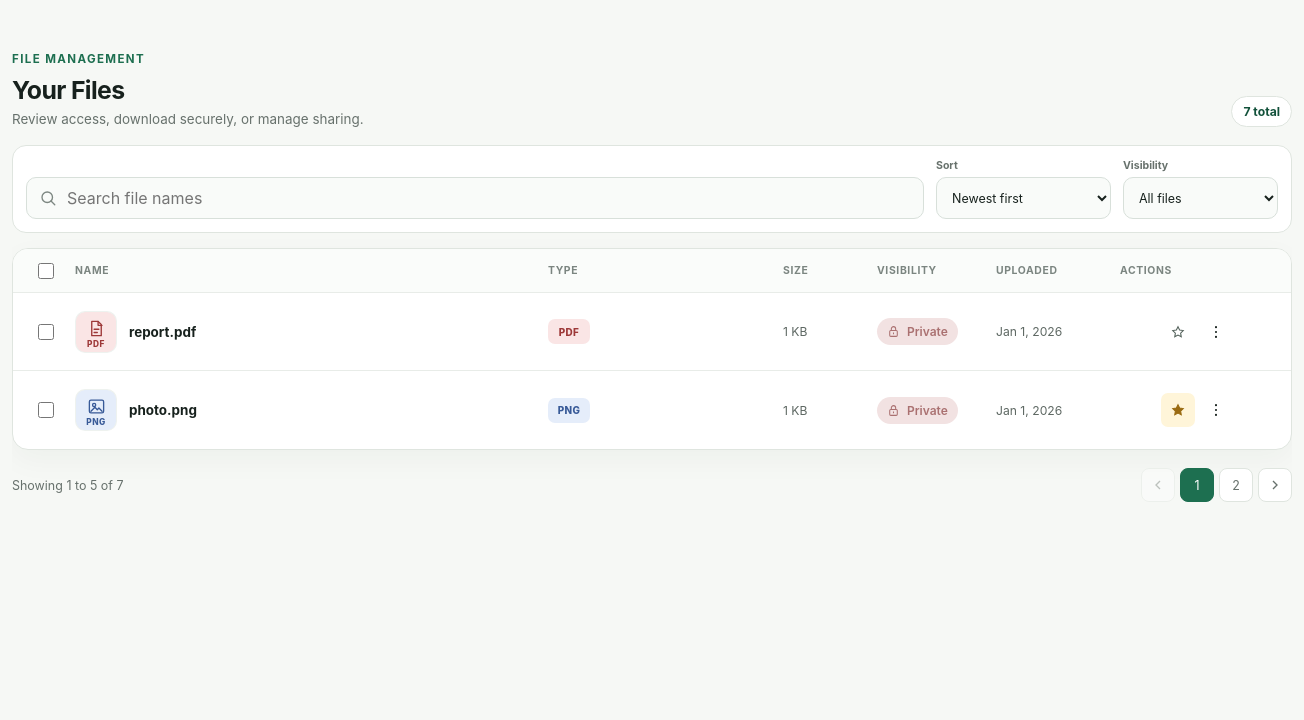
Test: FileList professional table and pagination › bulk page selection and actions › selects rows by file ID, supports indeterminate Select All, deselection, and clearing
Step 1. Click the checkbox named "Select report.pdf" → point(46, 332), box [38, 324, 54, 340]
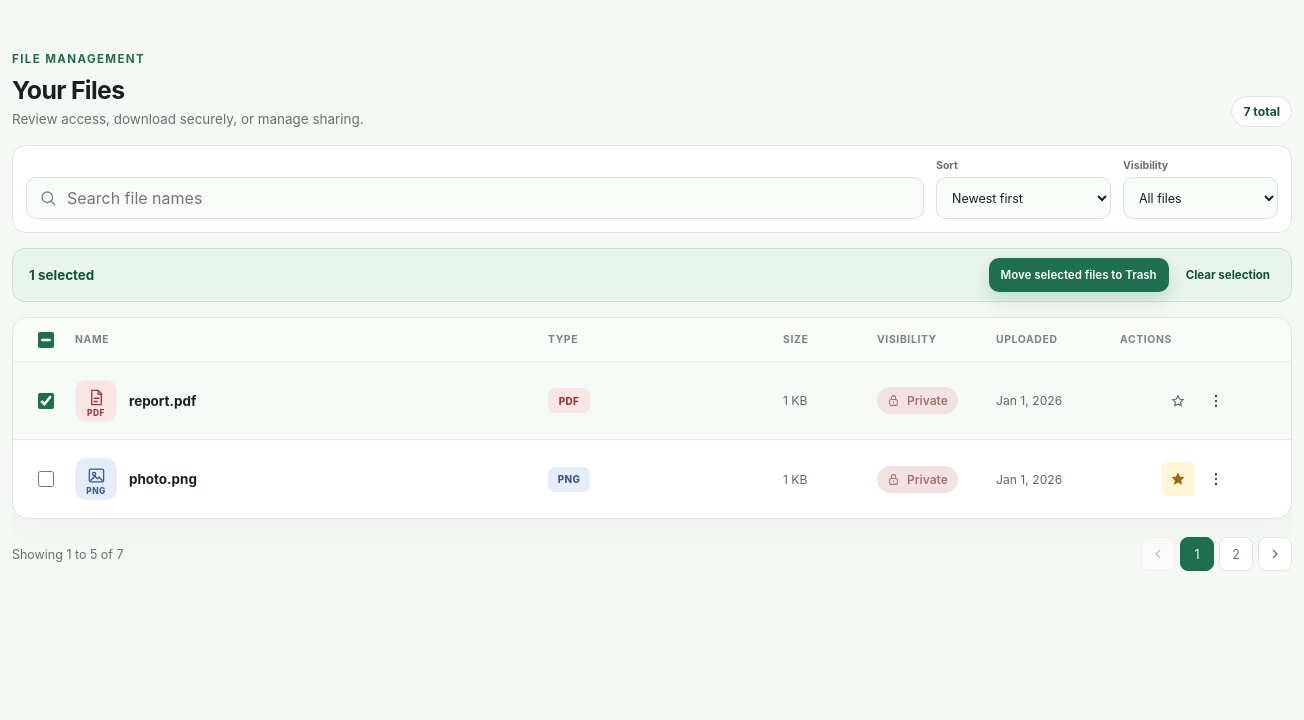
Check: the element with class "bulk-action-toolbar" shows "1 selected", box [12, 248, 1292, 302]
Step 2. Click the checkbox named "Select all files on this page" → point(46, 340), box [38, 332, 54, 348]
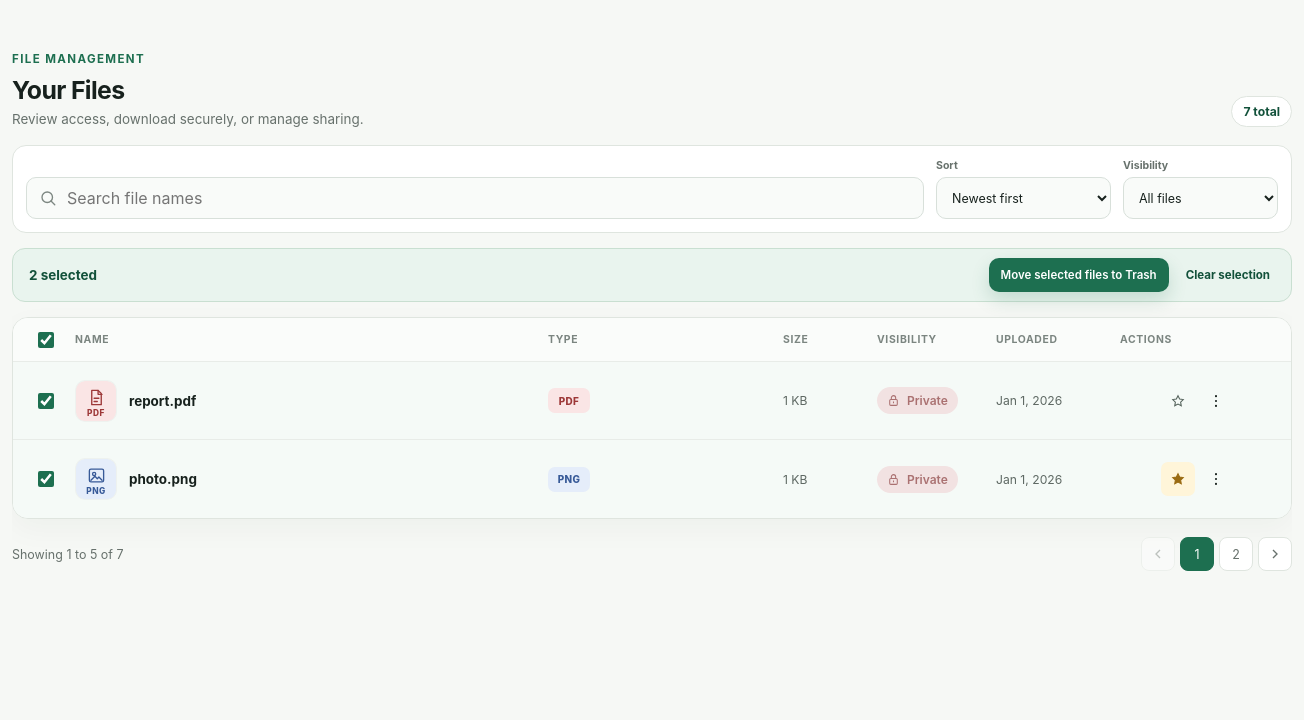
Check: the element with class "bulk-action-toolbar" shows "2 selected", box [12, 248, 1292, 302]
Step 3. Click the checkbox named "Select photo.png" → point(46, 479), box [38, 471, 54, 487]
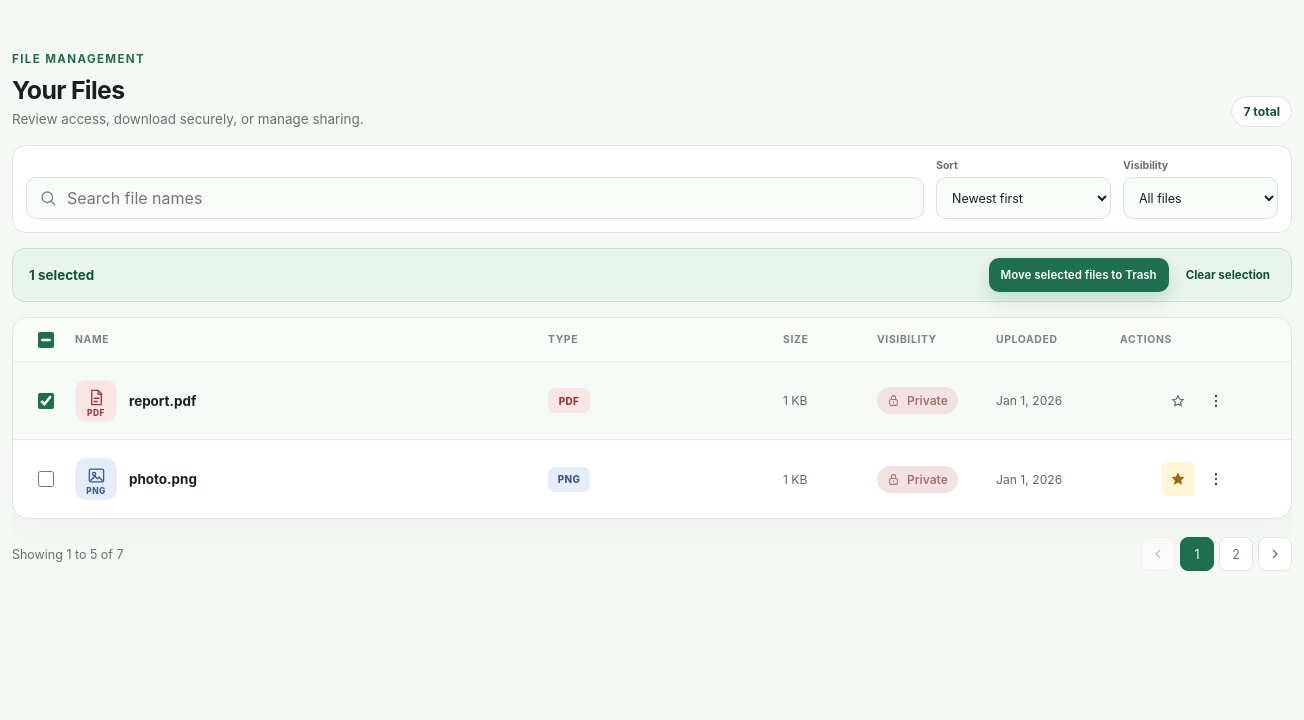
Step 4. Click the button "Clear selection" → point(1228, 275), box [1177, 258, 1279, 292]
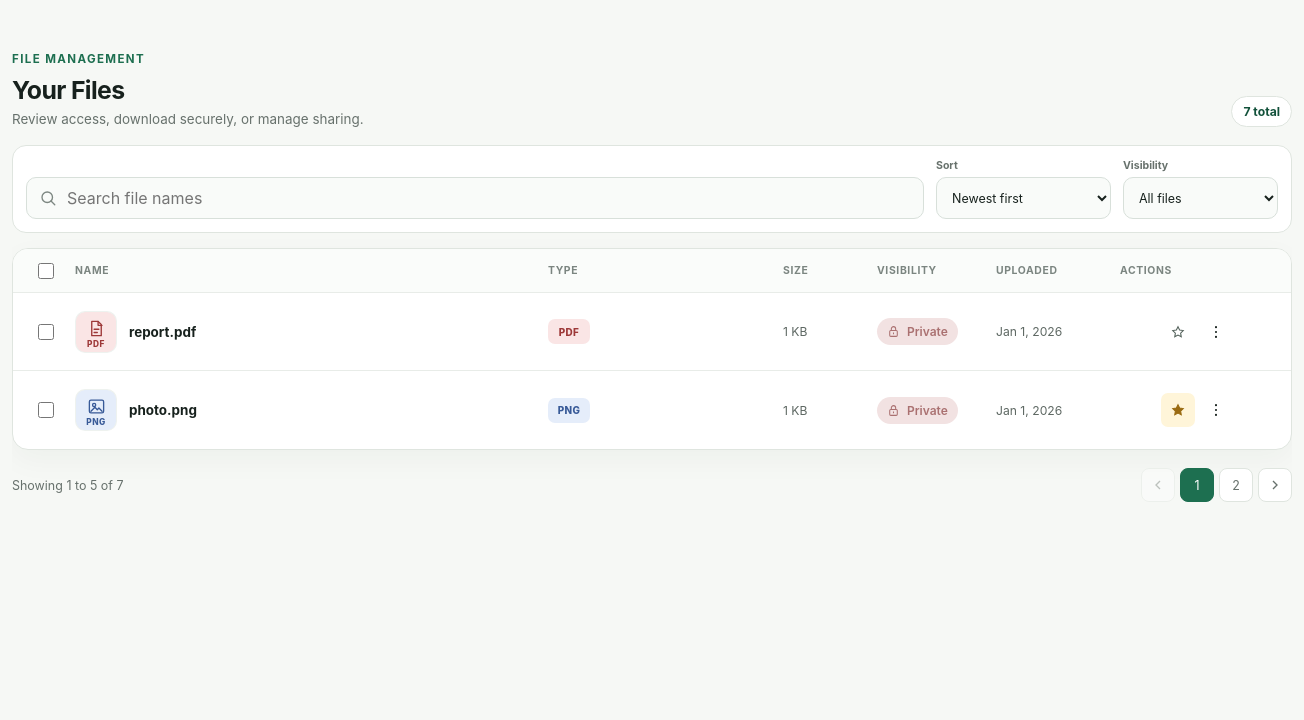
Check: the element with class "bulk-action-toolbar" is gone
